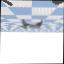drone: (21, 19, 43, 30)
